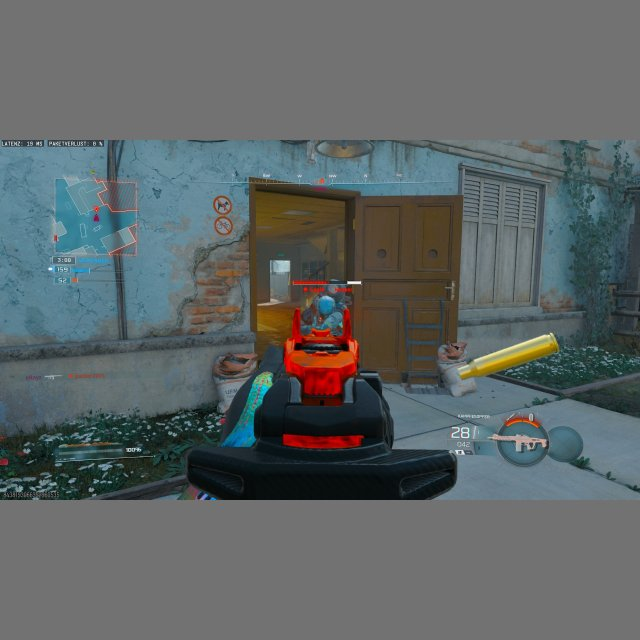head: (315, 295, 335, 317)
player: (299, 294, 346, 338)
